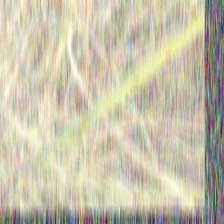Bacterial_Leaf_Blight: (162, 48, 177, 63), (129, 73, 144, 86), (55, 135, 68, 144)
